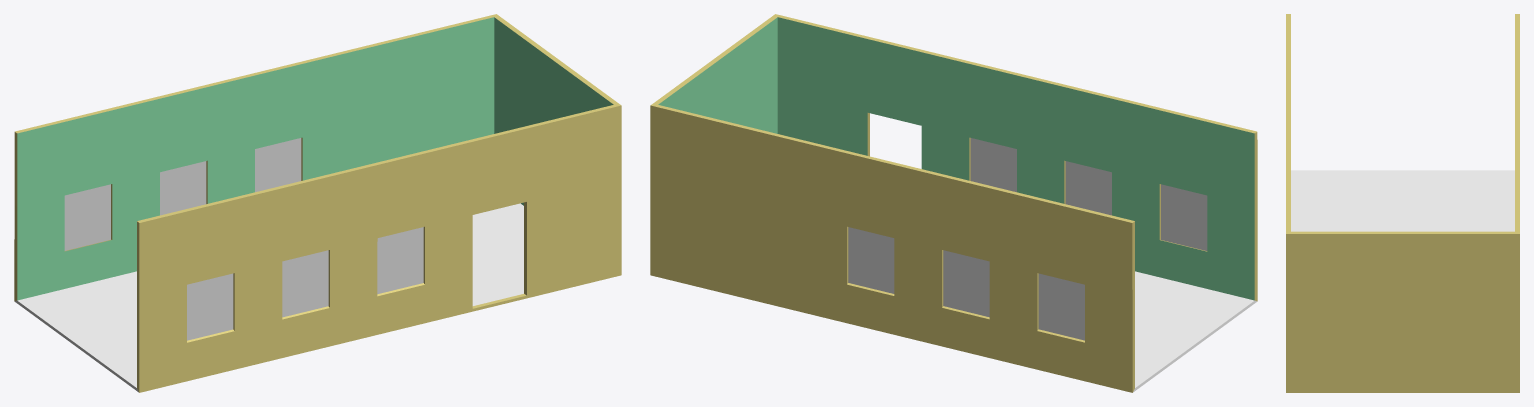
Rendered from storebuilding.fbx.
3 renders of one model, left to right at view 1: azimuth 30°, elevation 25°; view 2: azimuth 150°, elevation 25°; view 3: azimuth 270°, elevation 25°, orthographic. The views are drawn at different scales.
Parts seen in each view (by area): view 1: Store Walls; view 2: Store Walls; view 3: Store Walls.
Boxes of the visible parts, x1,y1,x2,y2 form: Store Walls: [14, 14, 621, 392]; Store Walls: [650, 14, 1257, 392]; Store Walls: [1286, 14, 1519, 392].
Size of the model in its own units: 3564 by 1200 by 1600.
